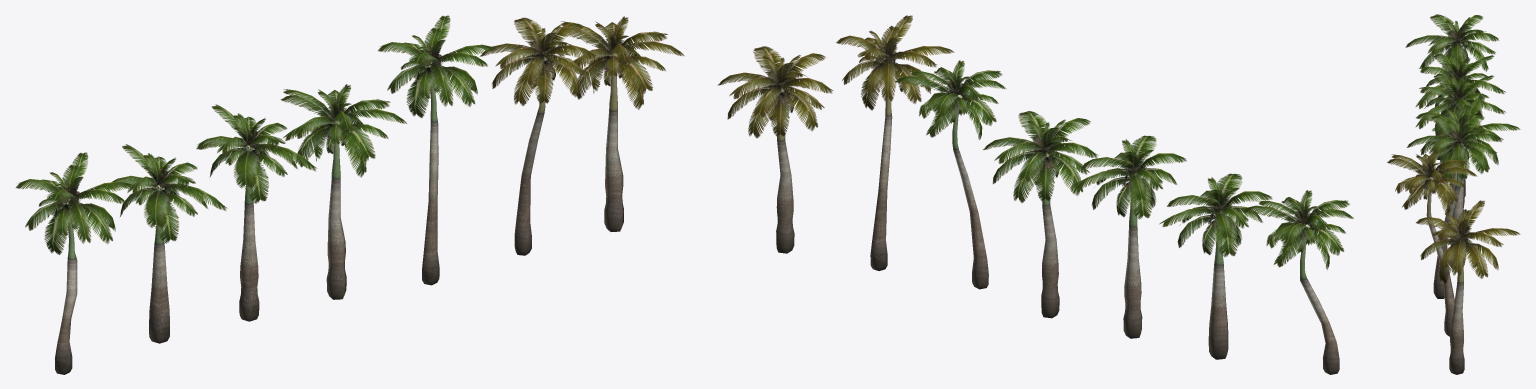
File: Palm_Cluster_All_01.glb
3 renders of one model, left to right at view 1: azimuth 30°, elevation 25°; view 2: azimuth 150°, elevation 25°; view 3: azimuth 270°, elevation 25°, orthographic. The views are drawn at different scales.
Parts seen in each view (by area): view 1: Palm1_VAR4, Palm1_VAR5, Palm1_VARCol2, Palm1_VARCol1, Palm1_VAR1, Palm1_VAR3, Palm1_VAR2; view 2: Palm1_VARCol2, Palm1_VAR4, Palm1_VARCol1, Palm1_VAR3, Palm1_VAR2, Palm1_VAR5, Palm1_VAR1; view 3: Palm1_VARCol2, Palm1_VARCol1, Palm1_VAR5, Palm1_VAR1, Palm1_VAR4, Palm1_VAR3, Palm1_VAR2.
Boxes of the visible parts, <box> form: Palm1_VAR4: <box>280,84,406,299</box>; Palm1_VAR5: <box>378,15,496,285</box>; Palm1_VARCol2: <box>560,16,684,231</box>; Palm1_VARCol1: <box>480,17,596,255</box>; Palm1_VAR1: <box>15,152,132,374</box>; Palm1_VAR3: <box>196,104,317,321</box>; Palm1_VAR2: <box>108,144,227,343</box>; Palm1_VARCol2: <box>717,46,833,253</box>; Palm1_VAR4: <box>983,111,1098,318</box>; Palm1_VARCol1: <box>836,15,954,270</box>; Palm1_VAR3: <box>1073,135,1186,338</box>; Palm1_VAR2: <box>1159,173,1272,359</box>; Palm1_VAR5: <box>895,60,1006,289</box>; Palm1_VAR1: <box>1242,190,1353,374</box>; Palm1_VARCol2: <box>1416,200,1520,374</box>; Palm1_VARCol1: <box>1387,149,1477,336</box>; Palm1_VAR5: <box>1406,114,1500,298</box>; Palm1_VAR1: <box>1405,14,1498,159</box>; Palm1_VAR4: <box>1416,95,1520,268</box>; Palm1_VAR3: <box>1415,74,1506,218</box>; Palm1_VAR2: <box>1415,53,1506,196</box>.
Bounding box in the file's own units: 19.3 × 6.68 × 4.49.
2 materials, 2 textured.
